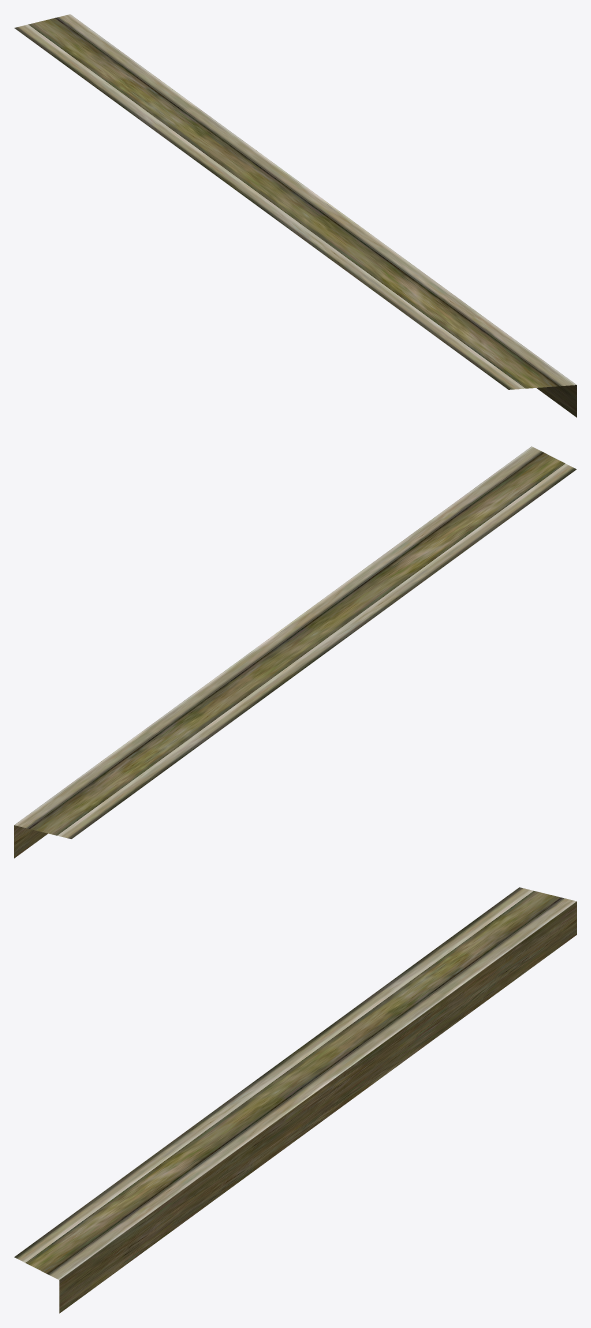
File: CH09_SMAUG_PLAYSURFACE_LAIR91.fbx
3 views of the same model, one above another, from view 1: azimuth 30°, elevation 25°; view 2: azimuth 150°, elevation 25°; view 3: azimuth 330°, elevation 25° (orthographic). The views are drawn at different scales.
Parts seen in each view (by area): view 1: CH09_SMAUG_PLAYSURFACE_LAIR91; view 2: CH09_SMAUG_PLAYSURFACE_LAIR91; view 3: CH09_SMAUG_PLAYSURFACE_LAIR91.
Boxes of the visible parts, x1,y1,x2,y2 form: CH09_SMAUG_PLAYSURFACE_LAIR91: [14, 14, 576, 417]; CH09_SMAUG_PLAYSURFACE_LAIR91: [14, 446, 576, 858]; CH09_SMAUG_PLAYSURFACE_LAIR91: [14, 887, 576, 1313].
Bounding box in the file's own units: 5400 × 3000 × 84000.
2 materials, 2 textured.
